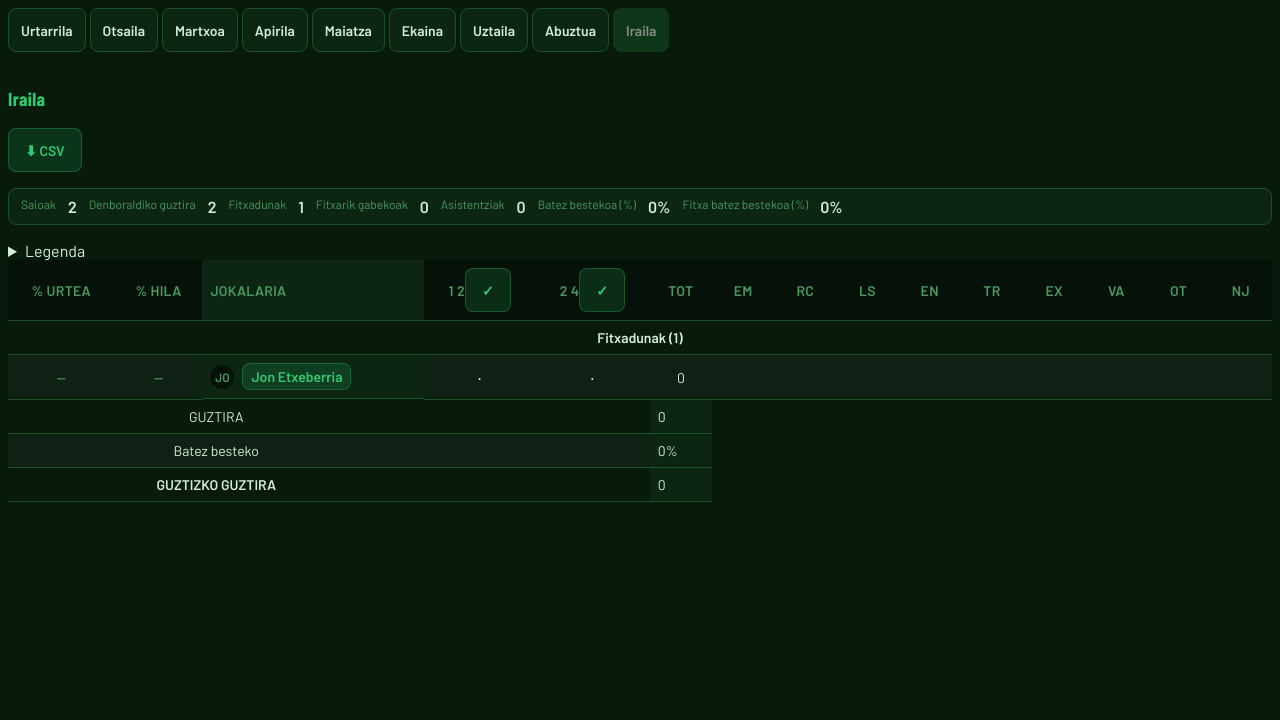
Test: AsistenciaF11Tab › ficha overlay shows Resumen temporada and Evolución mensual
The image size is (1280, 720).
What coordinates should you click on to do the following:
click the button "Jon Etxeberria"
I would click on:
 (297, 377)
Its box is [242,363,352,390].
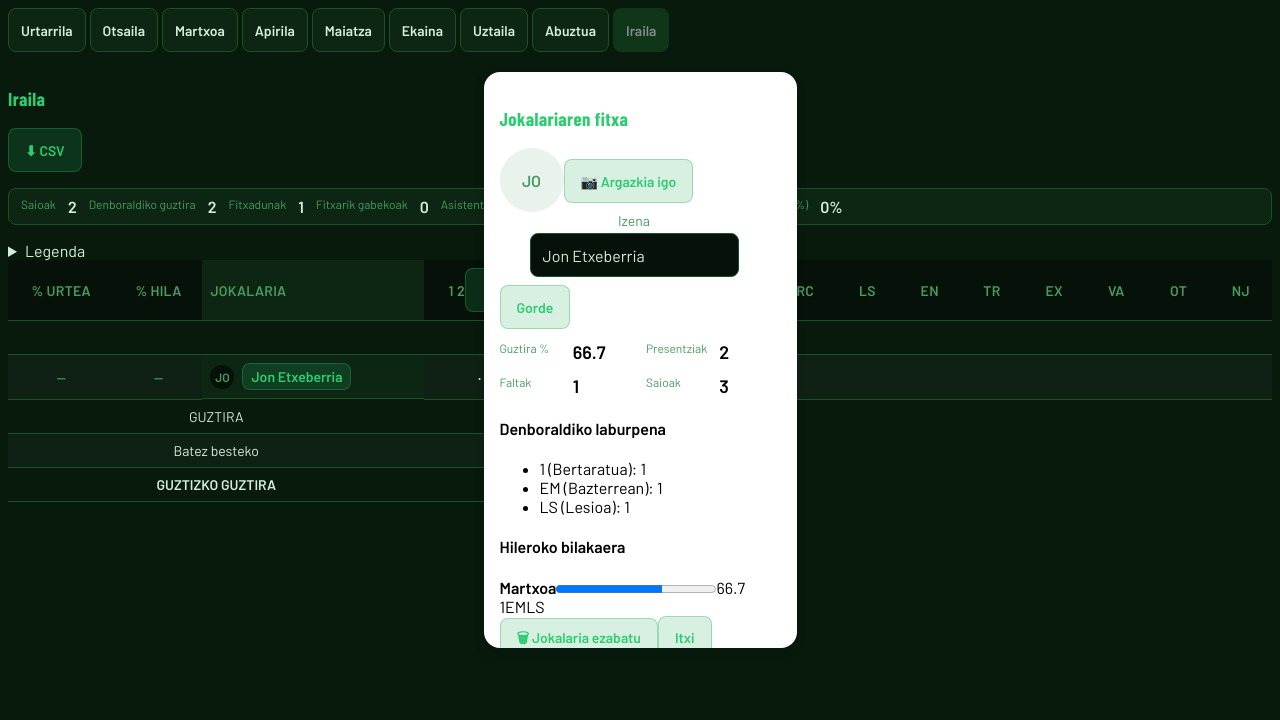
Now the heading "Denboraldiko laburpena" is shown, box [500,419,666,438]
Now the heading "Hileroko bilakaera" is shown, box [500,537,626,556]
